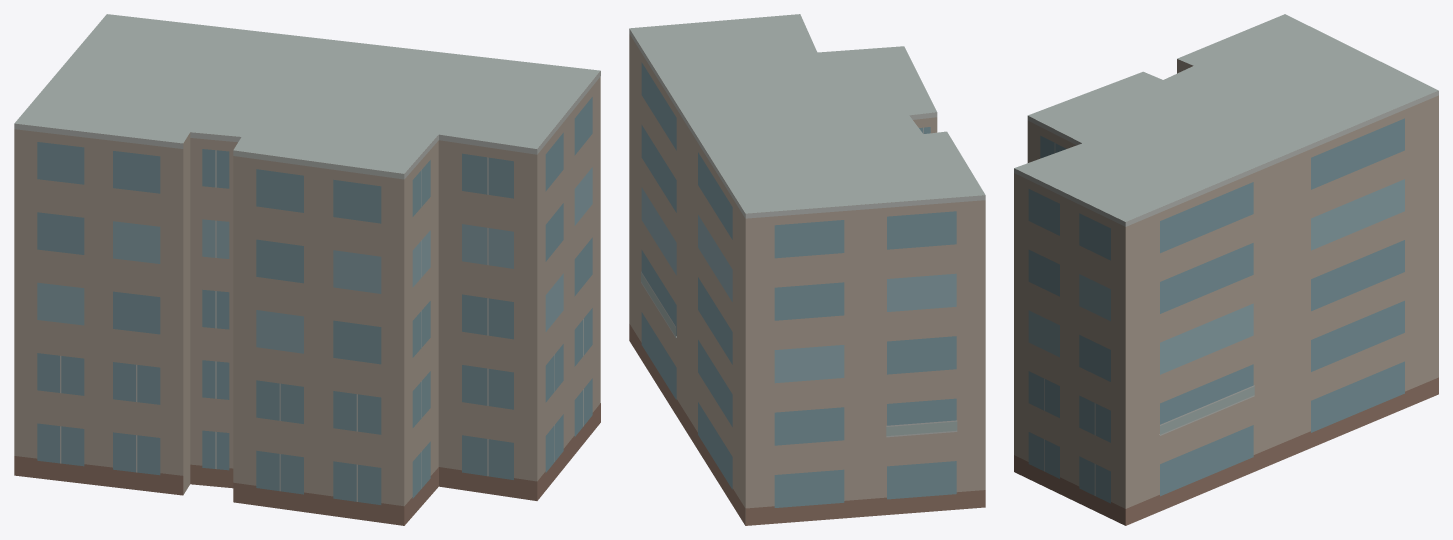
File: survey-upis-32694438.glb
3 views of the same model, side by side, from view 1: azimuth 30°, elevation 25°; view 2: azimuth 150°, elevation 25°; view 3: azimuth 270°, elevation 25° (orthographic). The views are drawn at different scales.
Visible parts, largest first — view 1: survey-upis-32694438.tmp; view 2: survey-upis-32694438.tmp; view 3: survey-upis-32694438.tmp.
Boxes of the visible parts, x1=… form: survey-upis-32694438.tmp: x1=14, y1=14, x2=600, y2=525; survey-upis-32694438.tmp: x1=629, y1=14, x2=985, y2=525; survey-upis-32694438.tmp: x1=1014, y1=14, x2=1438, y2=525.
Bounding box in the file's own units: 22.48 × 15.3 × 19.4.
